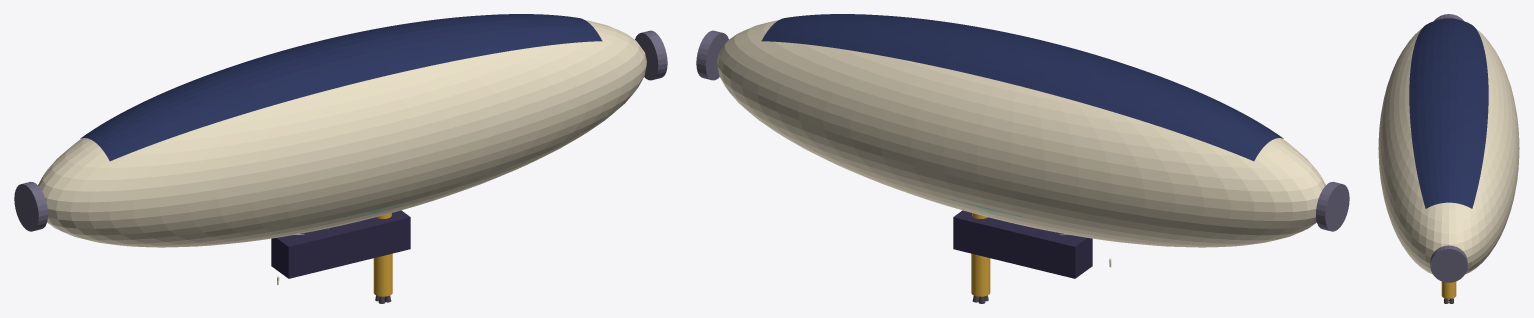
Rendered from phosphorus_airship.obj.
The picture shows the model from 3 angles, left to right: view 1: azimuth 30°, elevation 25°; view 2: azimuth 150°, elevation 25°; view 3: azimuth 270°, elevation 25°; orthographic projection. The views are drawn at different scales.
Visible parts, largest first — view 1: envelope, solar_crown, gondola, propulsors, vesper_stage_1; view 2: envelope, solar_crown, gondola, propulsors, vesper_stage_1; view 3: envelope, solar_crown, propulsors, vesper_stage_1.
Part boxes in pixels (box(x1,y1,x2,y2)): envelope: box(38, 20, 646, 247); solar_crown: box(80, 14, 602, 161); gondola: box(271, 210, 410, 278); propulsors: box(14, 30, 667, 231); vesper_stage_1: box(373, 253, 392, 296); envelope: box(717, 20, 1325, 247); solar_crown: box(761, 14, 1283, 161); gondola: box(953, 210, 1092, 278); propulsors: box(696, 30, 1349, 231); vesper_stage_1: box(971, 253, 990, 296); envelope: box(1378, 28, 1519, 274); solar_crown: box(1409, 18, 1488, 208); propulsors: box(1430, 14, 1467, 282); vesper_stage_1: box(1441, 281, 1456, 298).
Size of the model in its own units: 134 by 53.7 by 34.
